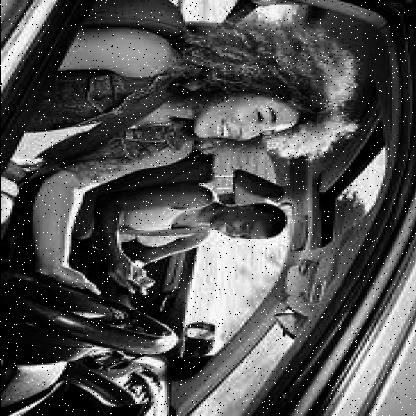seatbelt: (38, 27, 340, 173), (124, 192, 290, 260)
